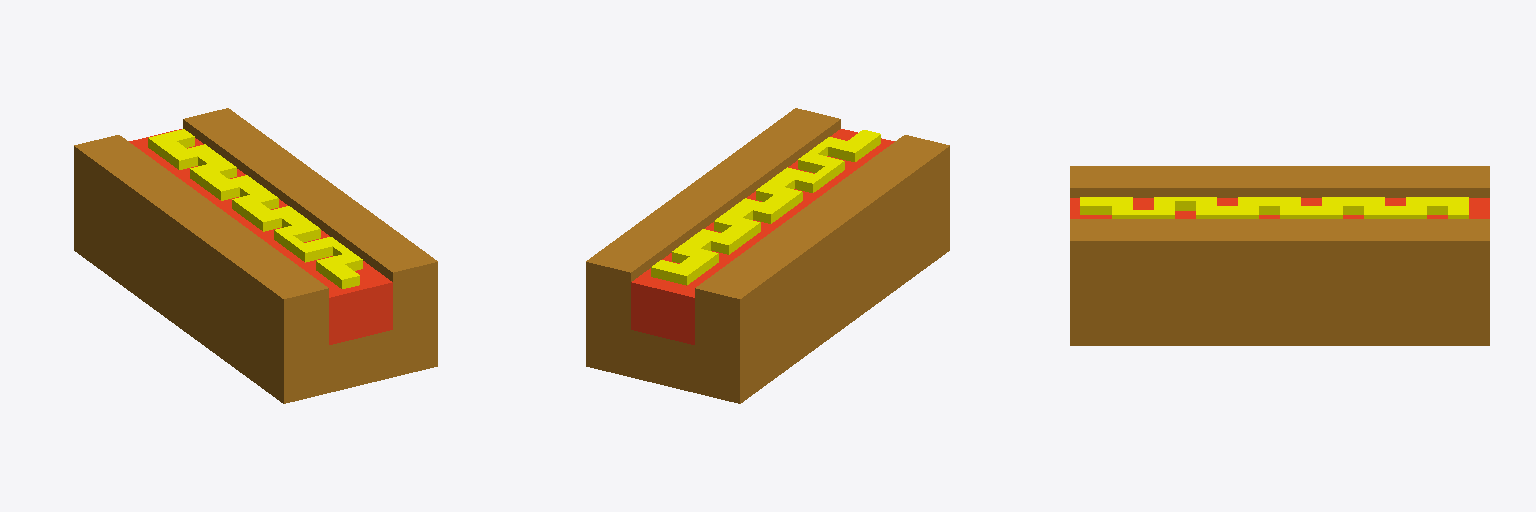
The picture shows the model from 3 angles: view 1: azimuth 30°, elevation 25°; view 2: azimuth 150°, elevation 25°; view 3: azimuth 270°, elevation 25°; orthographic projection.
Visible parts, largest first — view 1: object 1; view 2: object 1; view 3: object 1.
Boxes of the visible parts, box(x1,y1,x2,y2) form: object 1: box(74, 108, 437, 403); object 1: box(586, 108, 949, 403); object 1: box(1070, 166, 1489, 345).
Bounding box in the file's own units: 1.7 × 1.1 × 4.
Materials: 1 (1 with a texture image).